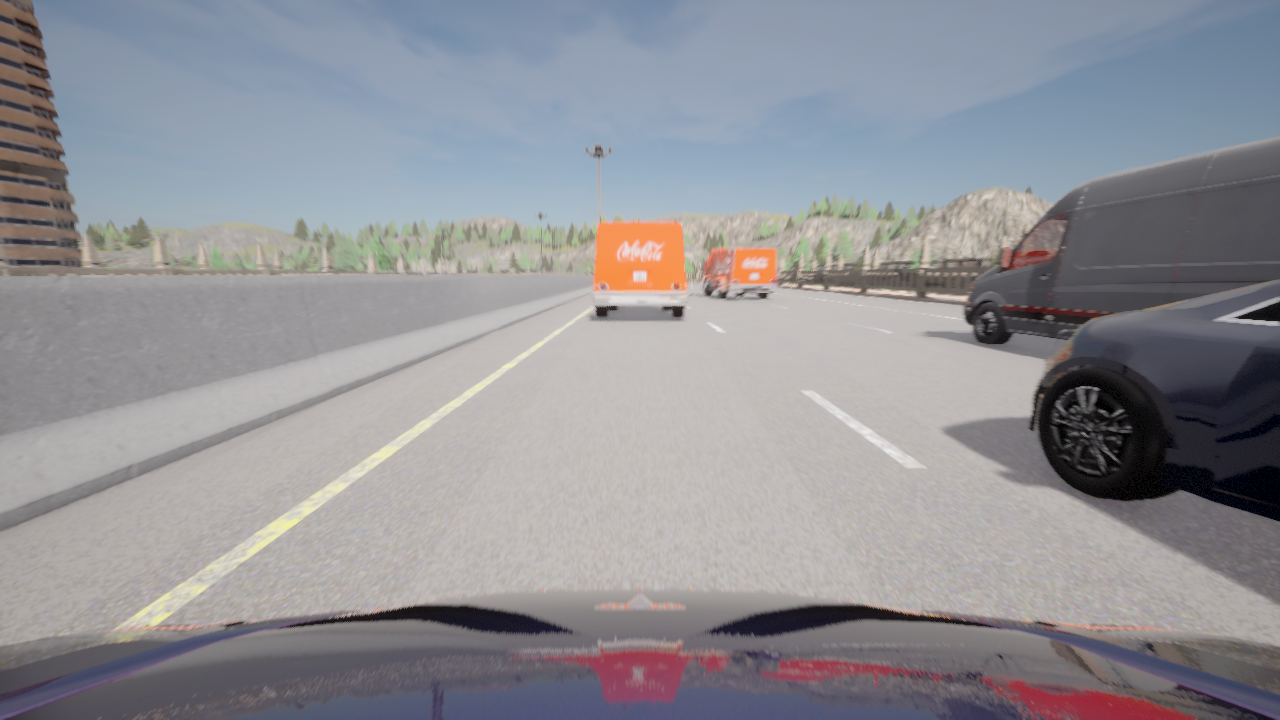cyclist: (0, 588, 1279, 719), (964, 136, 1279, 344), (1028, 279, 1279, 521), (592, 223, 688, 317), (698, 247, 778, 298), (770, 291, 772, 292)
pedestrian: (318, 262, 323, 270)
